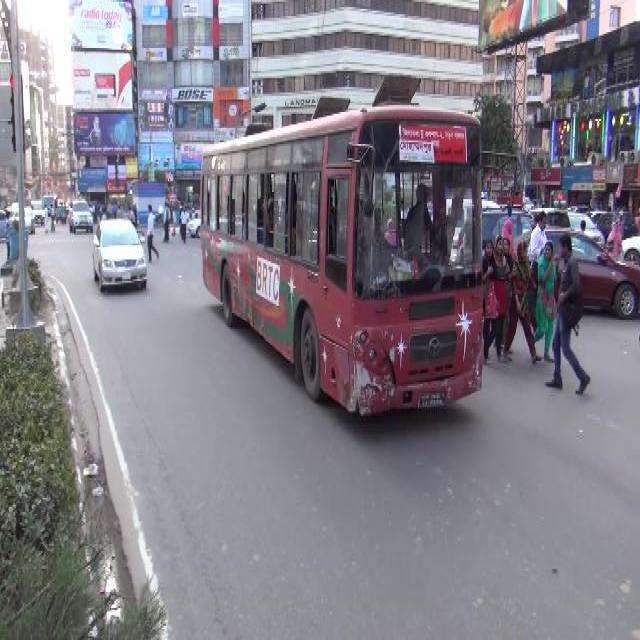vehicle: (198, 71, 486, 423), (89, 216, 150, 294), (69, 199, 95, 238), (32, 198, 49, 228)
